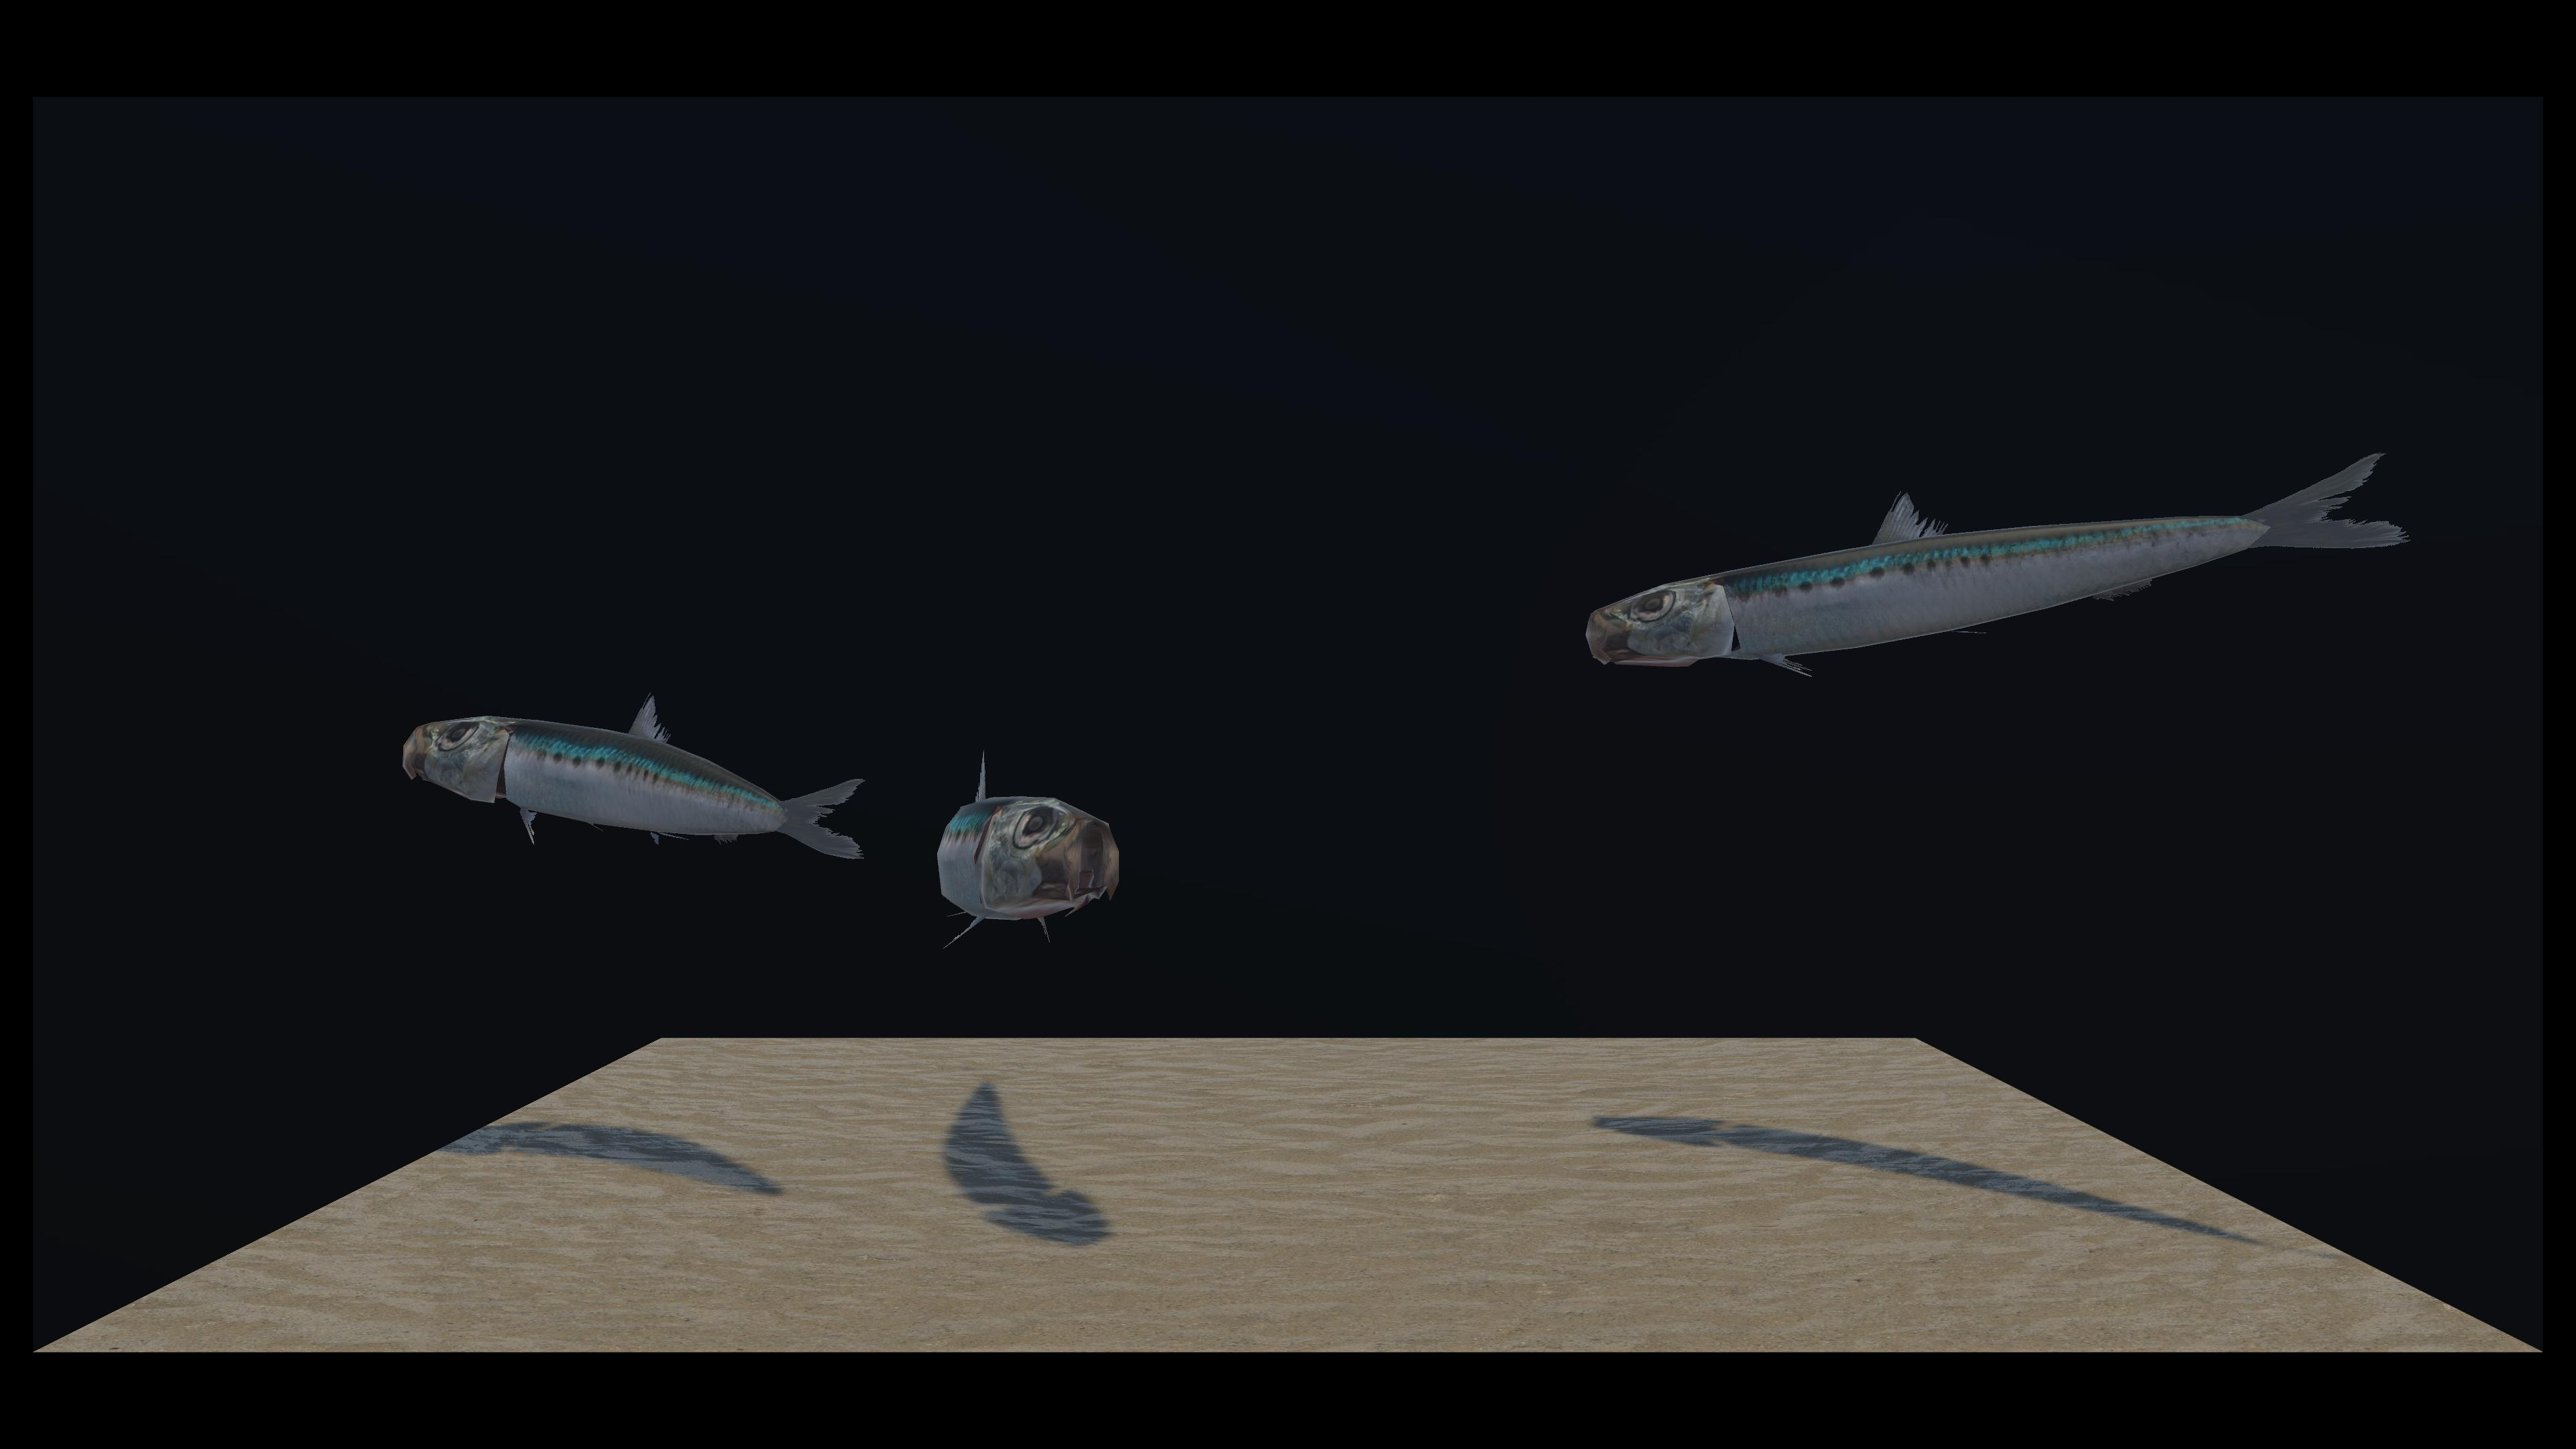Sardine_Front: (1060, 364, 2392, 688), (432, 313, 862, 860), (717, 400, 1092, 954)
